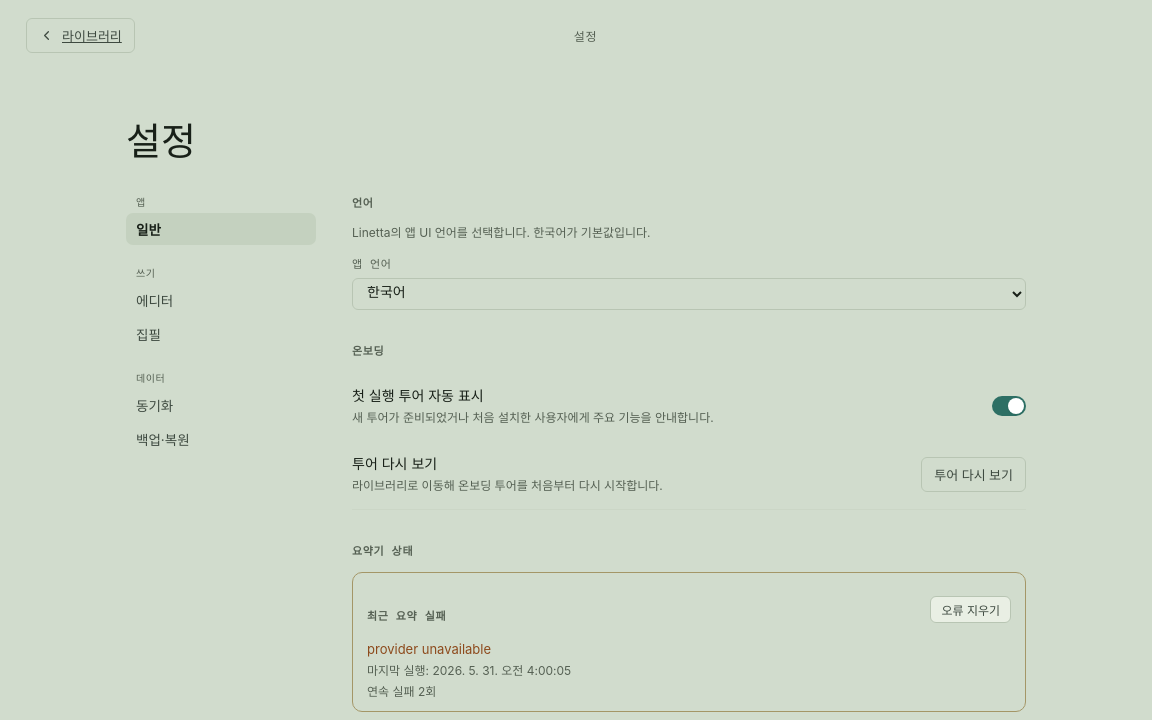
Scenario: Settings › renders backup, git sync, and degraded summarizer status
Click the button with test id "settings-nav-backup".
click(221, 439)  # box [126,423,316,455]
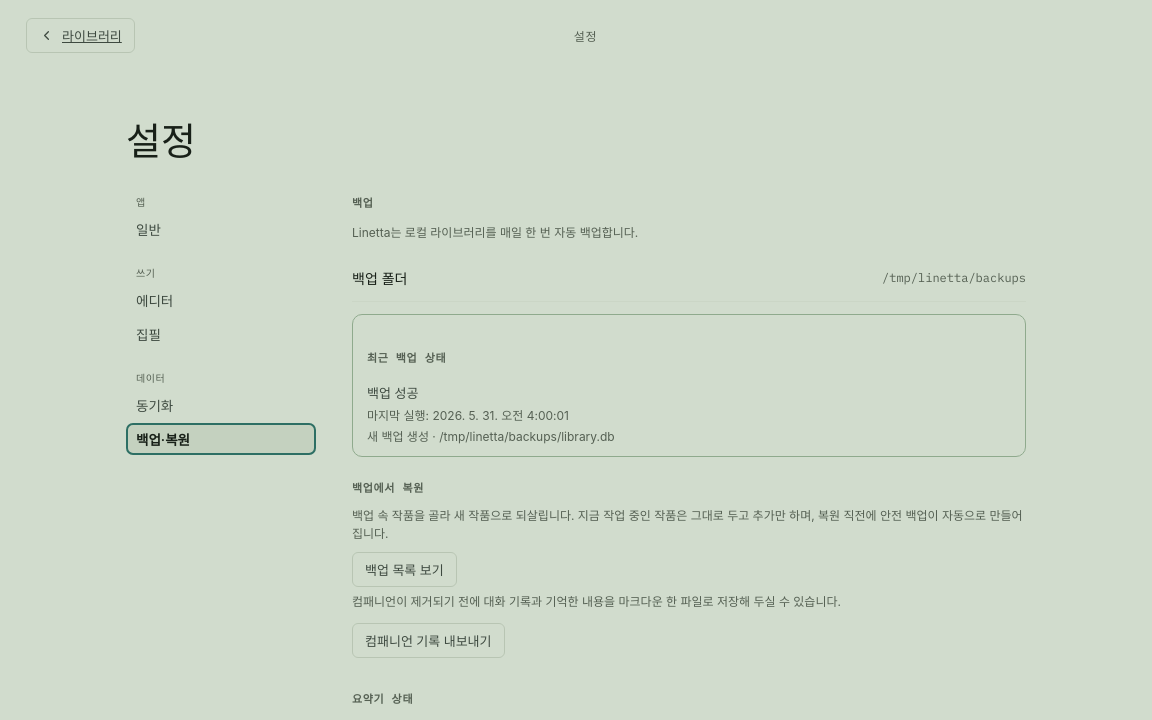
Expected: the heading "요약기 상태" is shown, [352,692,413,706]
Now the heading "최근 백업 상태" is shown, box [367,349,446,365]
Now the text "백업 성공" is shown, box [367,385,418,401]
Click the button with test id "settings-nav-sync".
click(221, 405)  # box [126,389,316,421]
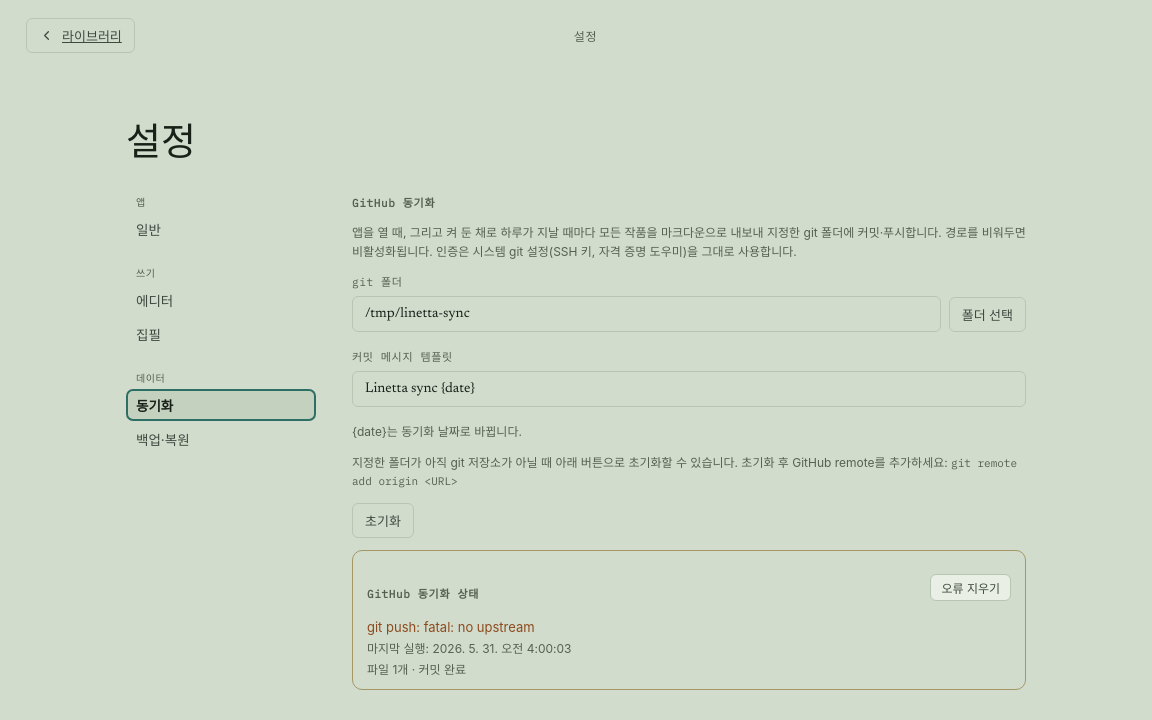
Now the text "git push: fatal: no upstream" is shown, box [367,619,535,635]
